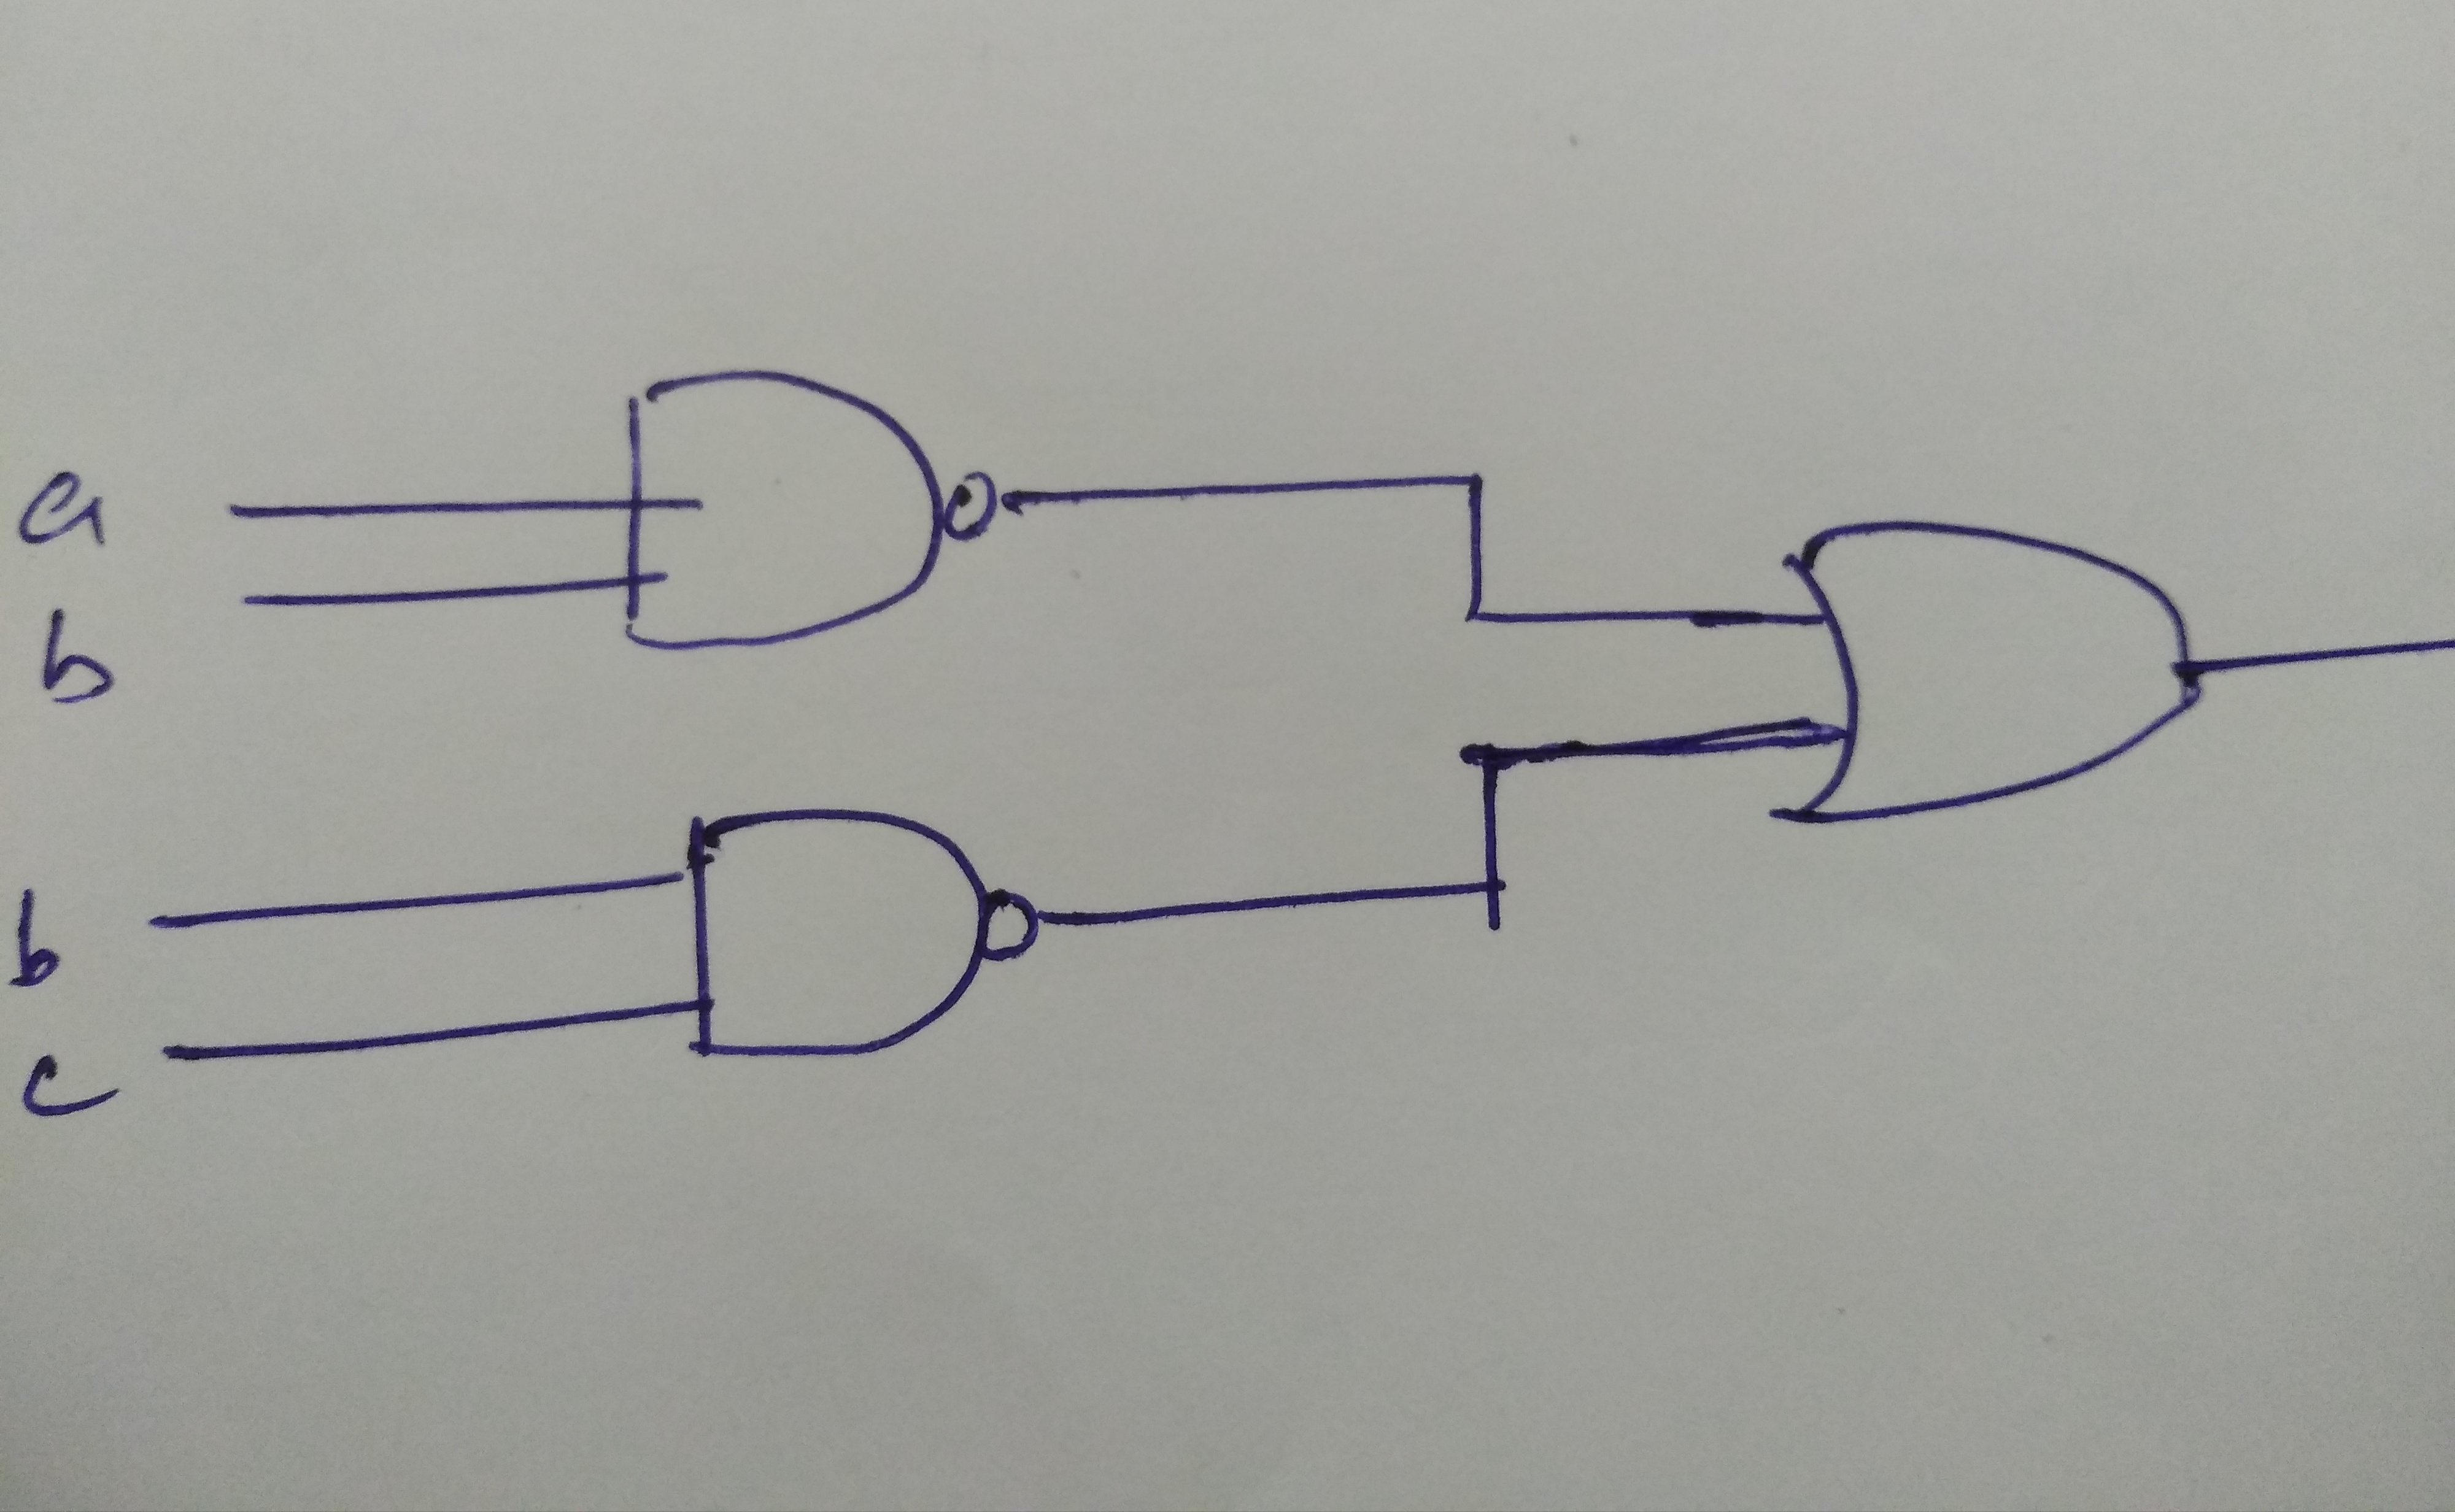nand: (565, 330, 1038, 714), (638, 772, 1077, 1096)
or: (1727, 470, 2227, 875)
